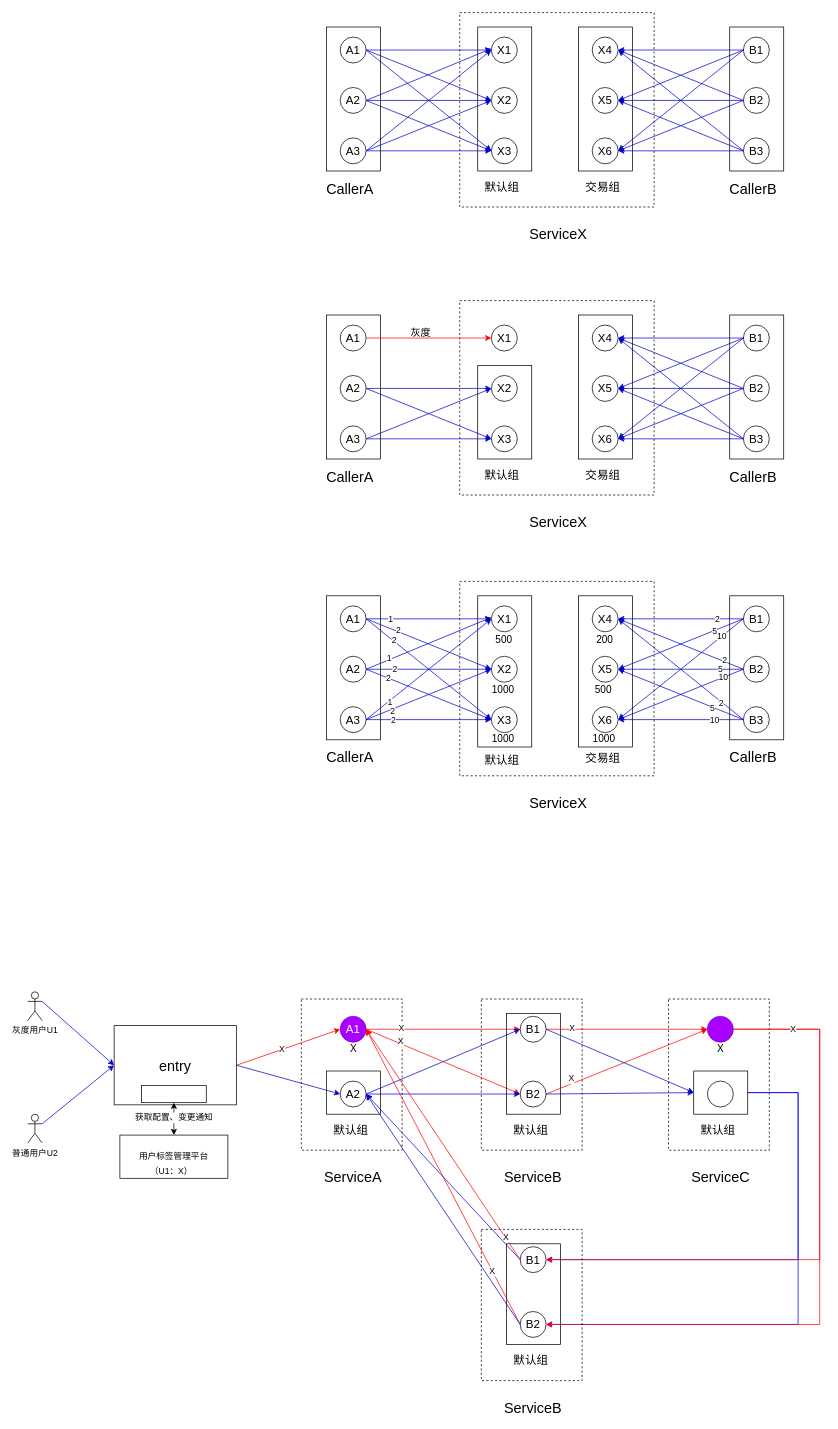
The diagram is 838 pixels wide and 1429 high, and some of its shapes have lost their labels. Each missing label, with the centre of its shape:
C1: the point at 720,1029
C2: the point at 720,1093
用户打标签组件: the point at 173,1094
